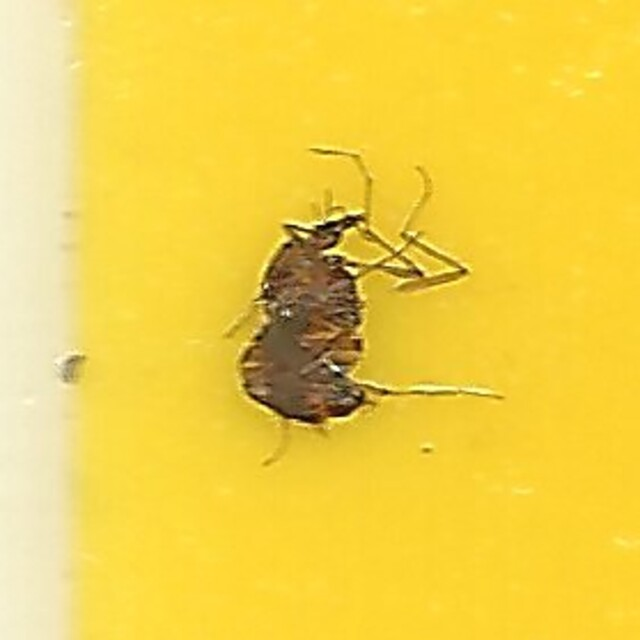Nematocera: (229, 206, 411, 434)
